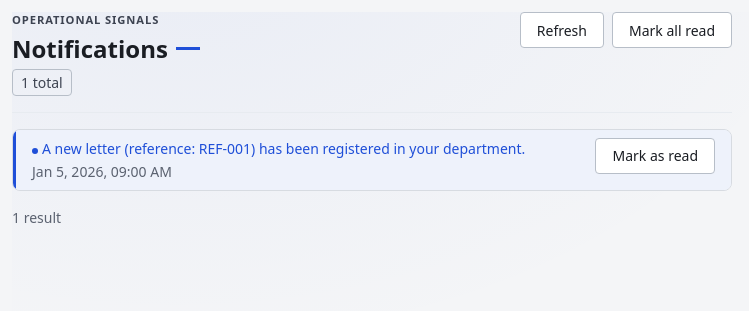
NotificationsPage › shows a normalized error, not a silent success, when marking read fails
expect the link "A new letter" is shown: met, box [42, 138, 525, 159]
What coordinates should you click on to do the following:
click the button "Mark as read"
I would click on:
 (655, 156)
Its box is [596, 138, 715, 174].
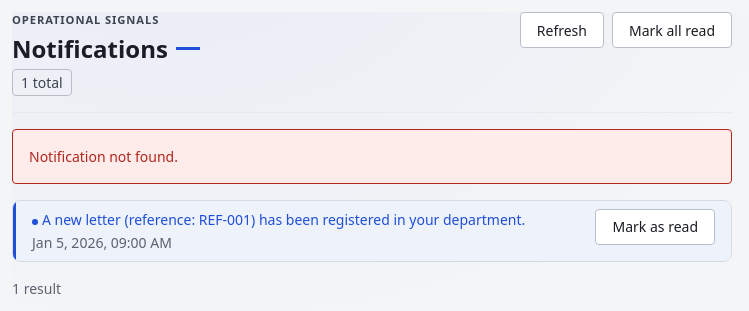
expect the button "Mark as read" is shown: met, box [596, 209, 715, 245]
expect the message reads "Notification not found.": met, box [29, 147, 178, 166]
